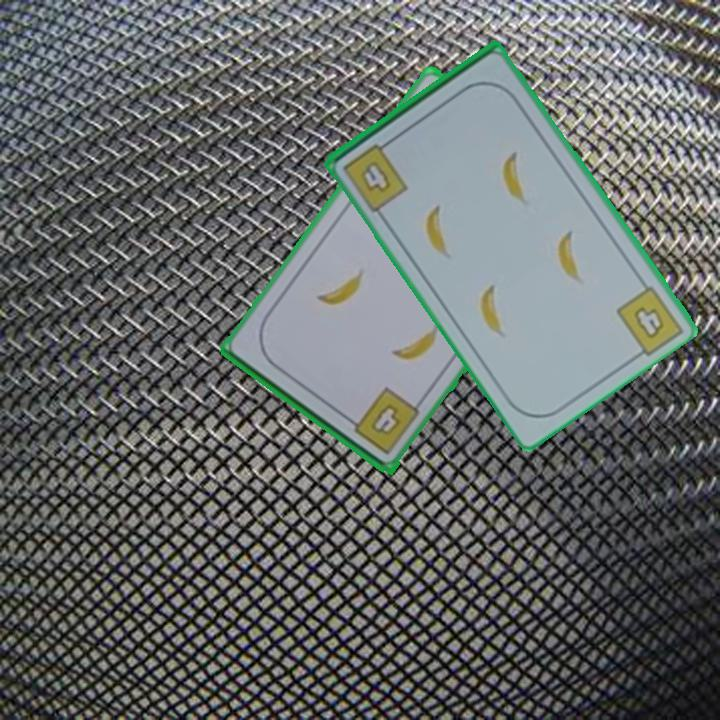4b: (339, 135, 411, 215), (630, 303, 668, 343), (371, 400, 403, 435)
